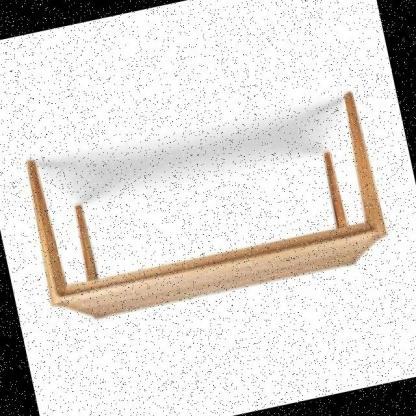Table: (13, 75, 402, 336)
